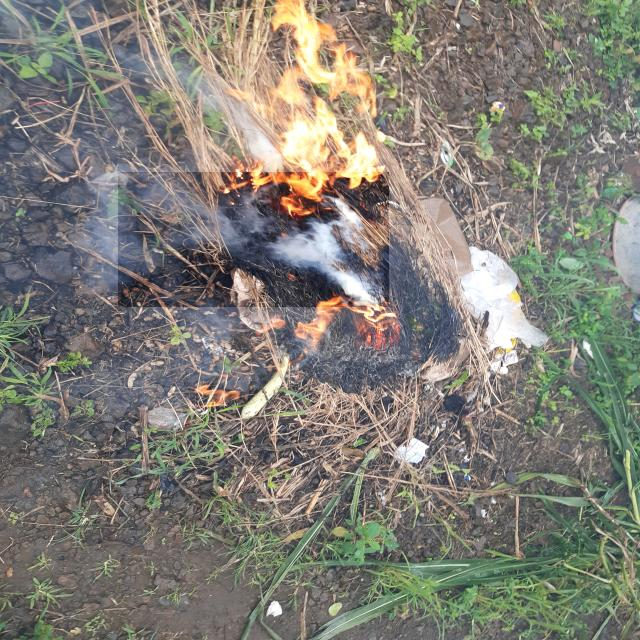Fire: (185, 42, 408, 216)
Smoke: (118, 172, 389, 307)
